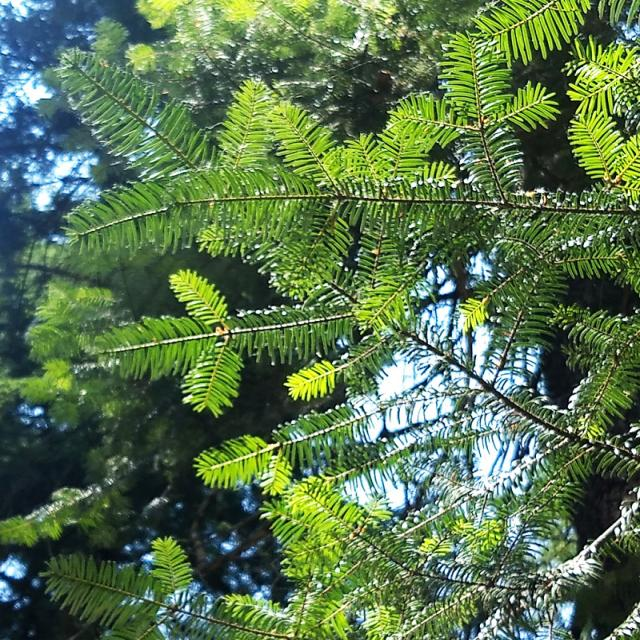Abies: (42, 38, 640, 610)
